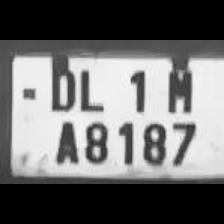1: (120, 64, 152, 116), (112, 116, 136, 166)
7: (168, 115, 198, 167)
8: (80, 117, 110, 165), (137, 118, 167, 166)
A: (46, 116, 80, 164)
D: (43, 54, 76, 112)
L: (74, 62, 104, 113)
M: (161, 57, 195, 115)
